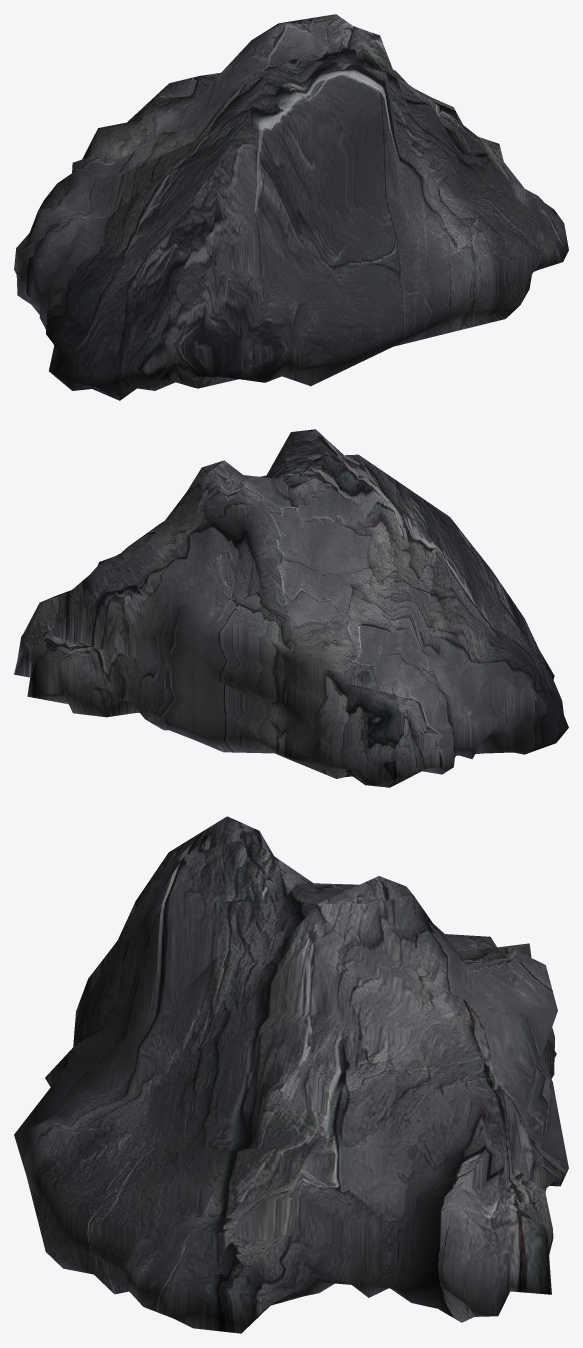
The model's file is RockWall4.fbx.
3 views of the same model, one above another, from view 1: azimuth 30°, elevation 25°; view 2: azimuth 150°, elevation 25°; view 3: azimuth 270°, elevation 25° (orthographic). The views are drawn at different scales.
Parts seen in each view (by area): view 1: Куб.079; view 2: Куб.079; view 3: Куб.079.
Part boxes in pixels (bbox=[...]): Куб.079: bbox=[14, 14, 568, 400]; Куб.079: bbox=[14, 429, 568, 787]; Куб.079: bbox=[14, 816, 568, 1333].
Size of the model in its own units: 497 by 260 by 349.
